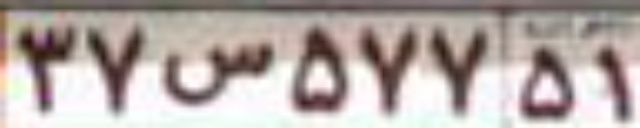1: (592, 46, 636, 120)
3: (17, 22, 72, 113)
5: (285, 21, 345, 110), (515, 46, 575, 118)
7: (355, 22, 422, 114), (82, 21, 145, 113), (429, 24, 492, 113)
sin: (161, 39, 275, 104)
